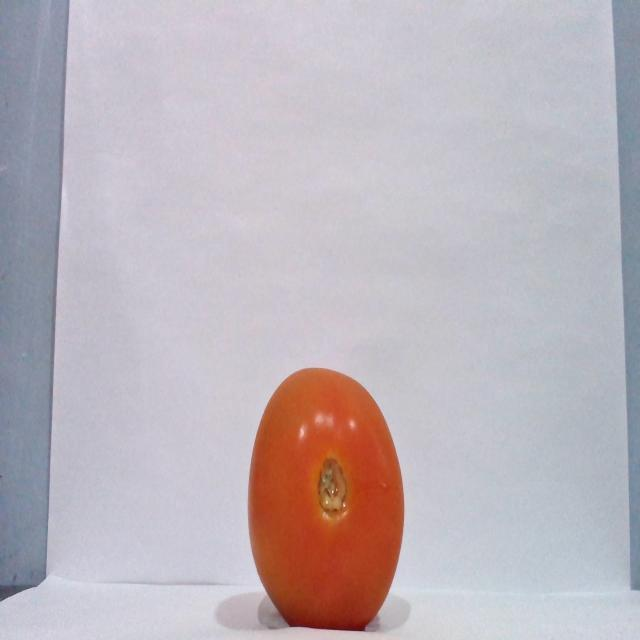Red: (246, 365, 405, 630)
